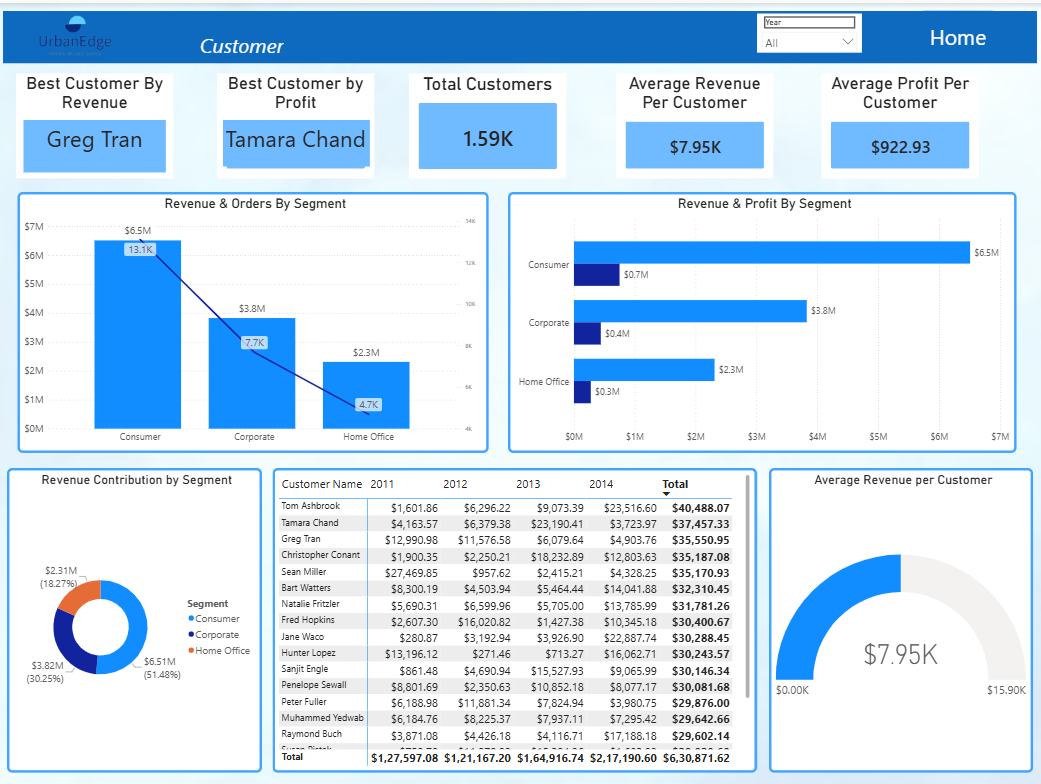

This screenshot's page, from the dashboard's own definition file:
{"tool":"powerbi","page":{"name":"Customer Analysis","canvas":[2000,1500],"ordinal":4},"visuals":[{"type":"shape","box":[0,0,2001.3,114.4],"z":0},{"type":"slicer","fields":{"Values":["Global_Superstore2.Year"]},"box":[1452.4,20,200.1,74.3],"z":1000},{"type":"image","box":[40,0,225.9,134.4],"z":2000},{"type":"actionButton","box":[374.5,40,191.6,80.1],"z":3000},{"type":"actionButton","box":[1746.9,14.3,177.3,100.1],"z":4000},{"type":"cardVisual","title":"Best Customer By Revenue","fields":{"Data":["Global_Superstore2.Total revenue"]},"box":[40,134.4,300.2,200.1],"z":5000},{"type":"cardVisual","title":"Best Customer by Profit","fields":{"Data":["Global_Superstore2.Total profit"]},"box":[423.1,134.4,300.2,200.1],"z":6000},{"type":"cardVisual","title":"Total Customers","fields":{"Data":["Count(Global_Superstore2.Customer ID)"]},"box":[789.1,134.4,300.2,200.1],"z":7000},{"type":"cardVisual","title":"Average Revenue Per Customer","fields":{"Data":["Global_Superstore2.Average Revenue Per Customer"]},"box":[1183.6,134.4,300.2,200.1],"z":8000},{"type":"cardVisual","title":"Average Profit Per Customer","fields":{"Data":["Global_Superstore2.Avg Profit Per Customer"]},"box":[1575.3,134.4,300.2,200.1],"z":9000},{"type":"lineClusteredColumnComboChart","title":"Revenue & Orders By Segment","fields":{"Category":["Global_Superstore2.Segment"],"Y":["Global_Superstore2.Total revenue"],"Y2":["Global_Superstore2.Total orders"]},"box":[42.9,360.2,897.7,497.5],"z":10000},{"type":"clusteredBarChart","title":"Revenue & Profit By Segment","fields":{"Category":["Global_Superstore2.Segment"],"Y":["Global_Superstore2.Total revenue","Global_Superstore2.Total profit"]},"box":[977.8,360.2,969.2,497.5],"z":11000},{"type":"donutChart","title":"Revenue Contribution by Segment","fields":{"Category":["Global_Superstore2.Segment"],"Y":["Global_Superstore2.Total revenue"]},"box":[22.9,886.3,486,580.4],"z":12000},{"type":"pivotTable","fields":{"Rows":["Global_Superstore2.Customer Name"],"Columns":["Global_Superstore2.Order Date.Variation.Date Hierarchy.Year"],"Values":["Global_Superstore2.Total revenue"]},"box":[528.9,886.3,923.5,580.4],"z":13000},{"type":"textbox","box":[54.3,223,271.6,100.1],"z":14000},{"type":"textbox","box":[434.6,223,280.2,88.6],"z":15000},{"type":"gauge","title":"Average Revenue per Customer","fields":{"Y":["Global_Superstore2.Average Revenue Per Customer"],"TargetValue":["Global_Superstore2.Total revenue"]},"box":[1475.3,886.3,503.2,580.4],"z":16000}]}

Visuals, with their boxes in screenshot pixels (x1, y1, x2, y2), scaled from the page's 2000x1500 canvas onto the 1041x784 screenshot:
shape: crop(0, 0, 1040, 60)
slicer - Global_Superstore2.Year: crop(756, 10, 860, 49)
image: crop(21, 0, 138, 70)
actionButton: crop(195, 21, 295, 63)
actionButton: crop(909, 7, 1002, 60)
"Best Customer By Revenue" cardVisual: crop(21, 70, 177, 175)
"Best Customer by Profit" cardVisual: crop(220, 70, 376, 175)
"Total Customers" cardVisual: crop(411, 70, 567, 175)
"Average Revenue Per Customer" cardVisual: crop(616, 70, 772, 175)
"Average Profit Per Customer" cardVisual: crop(820, 70, 976, 175)
"Revenue & Orders By Segment" lineClusteredColumnComboChart: crop(22, 188, 490, 448)
"Revenue & Profit By Segment" clusteredBarChart: crop(509, 188, 1013, 448)
"Revenue Contribution by Segment" donutChart: crop(12, 463, 265, 767)
pivotTable - Global_Superstore2.Customer Name x Global_Superstore2.Order Date.Variation.Date Hierarchy.Year: crop(275, 463, 756, 767)
textbox: crop(28, 117, 170, 169)
textbox: crop(226, 117, 372, 163)
"Average Revenue per Customer" gauge: crop(768, 463, 1030, 767)
